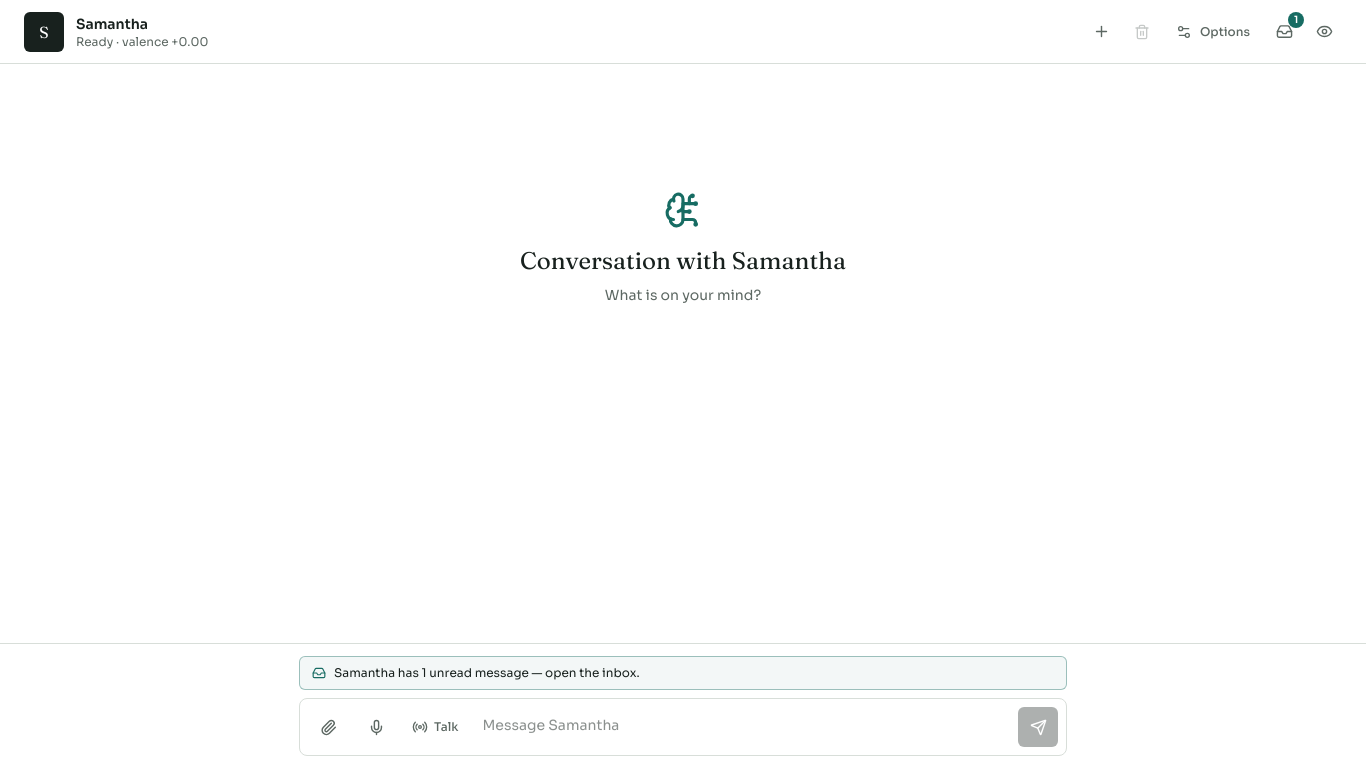
Test: ChatPage outbox replies › queues a reply for the next heartbeat without using the chat composer
Click the button named "Show inbox": coordinates (1284, 32) [1266,14,1302,50]
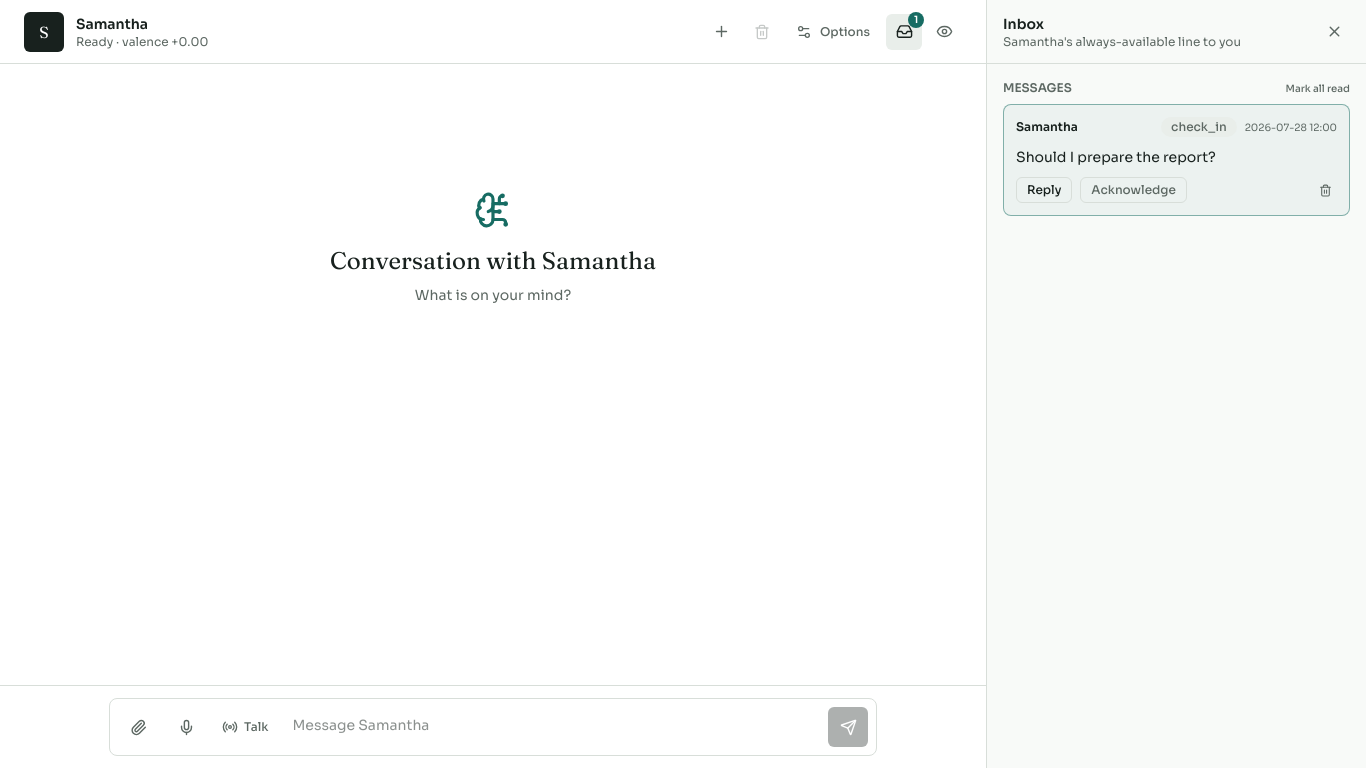
Expected: the text "Should I prepare the report?" is shown, [1016,148,1216,166]
Click the button "Reply": coordinates (1044, 190) [1016,177,1072,203]
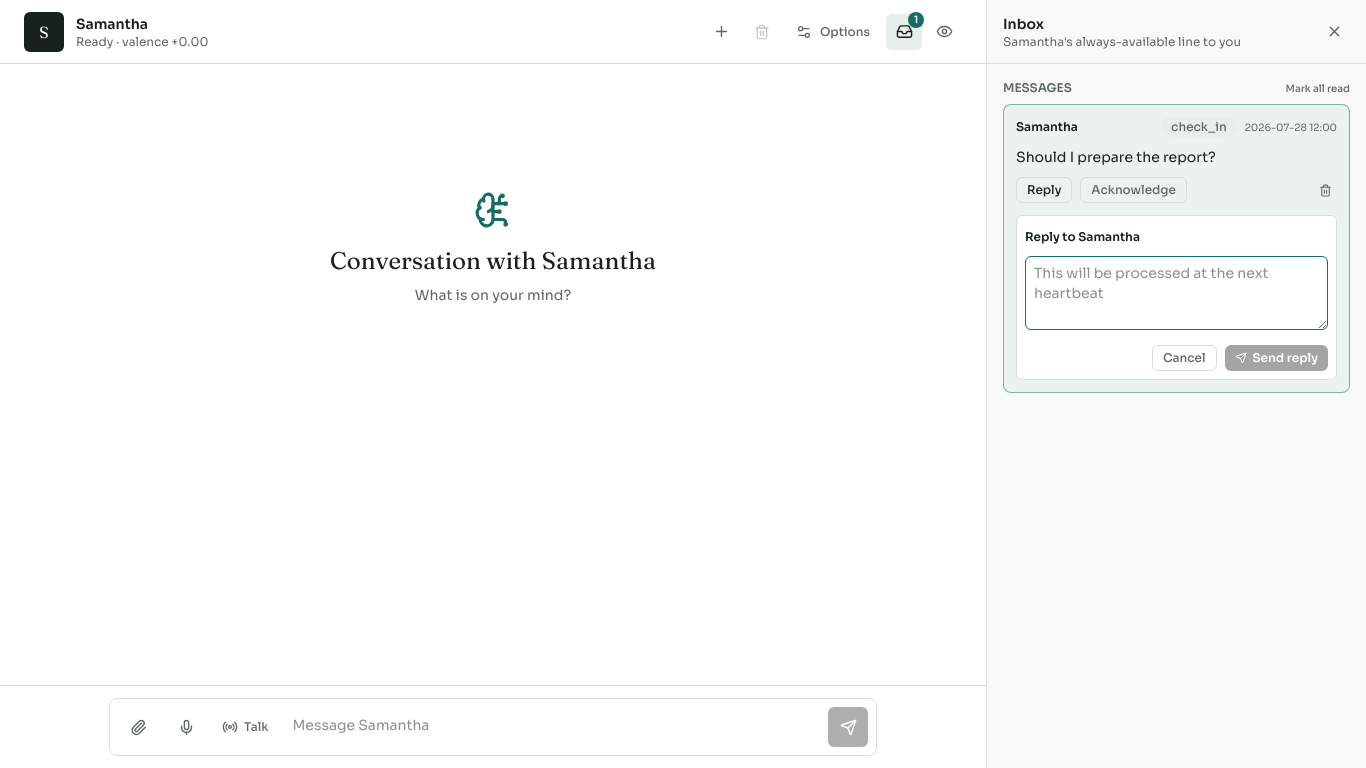
In the text box labelled "Reply to Samantha": coordinates (1176, 293) [1025,256,1328,330], type "Yes, please do."
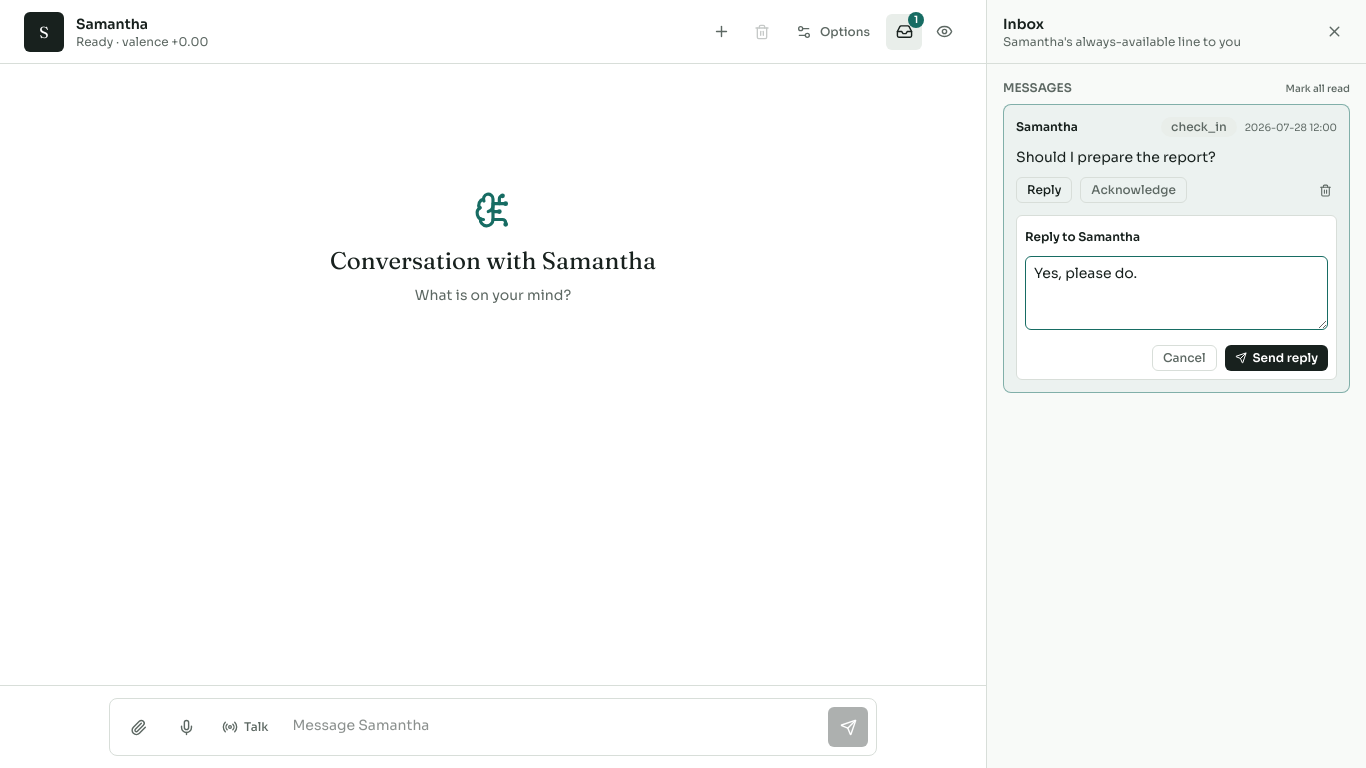
Click the button "Send reply": coordinates (1276, 358) [1224,345,1328,371]
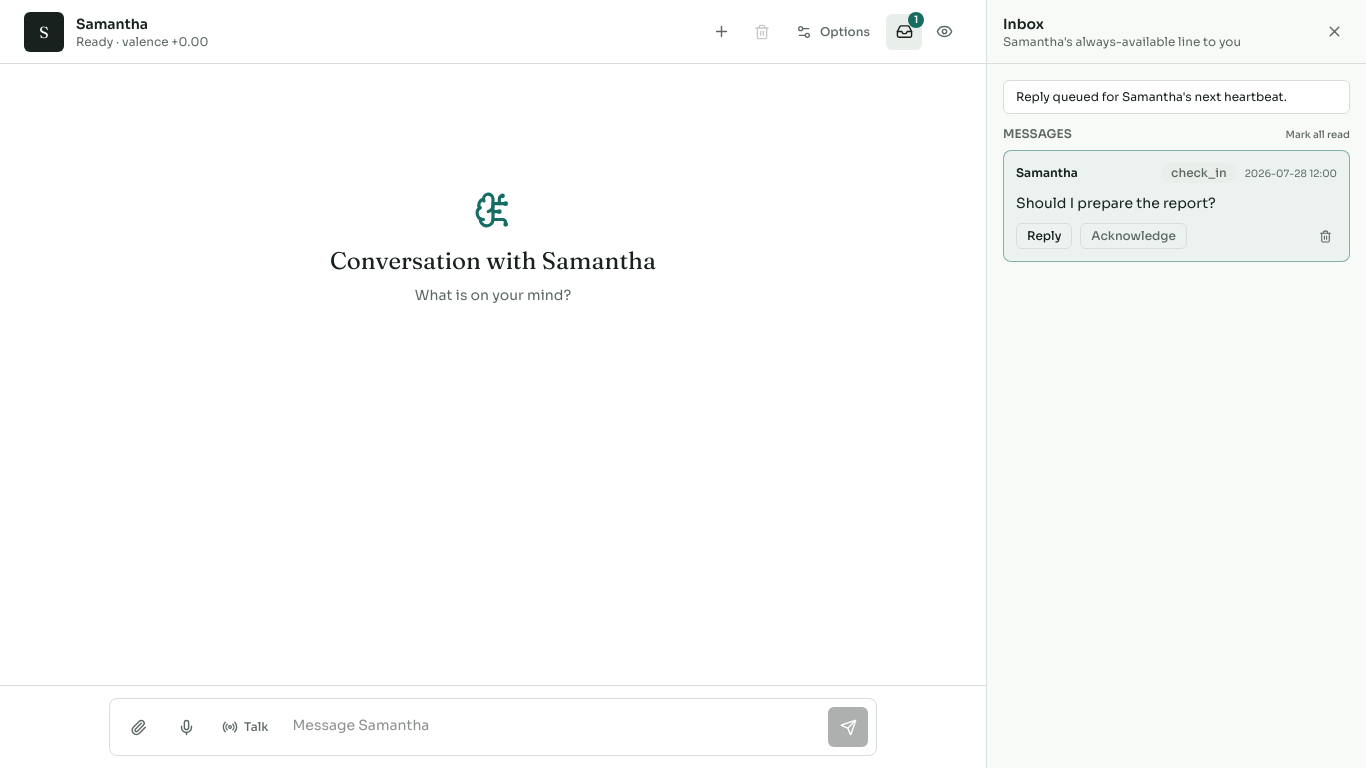
Expected: the text box labelled "Message Samantha" is empty, [284,707,820,747]
Expected: the text "Reply queued for Samantha's next heartbeat." is shown, [1003,80,1350,114]
